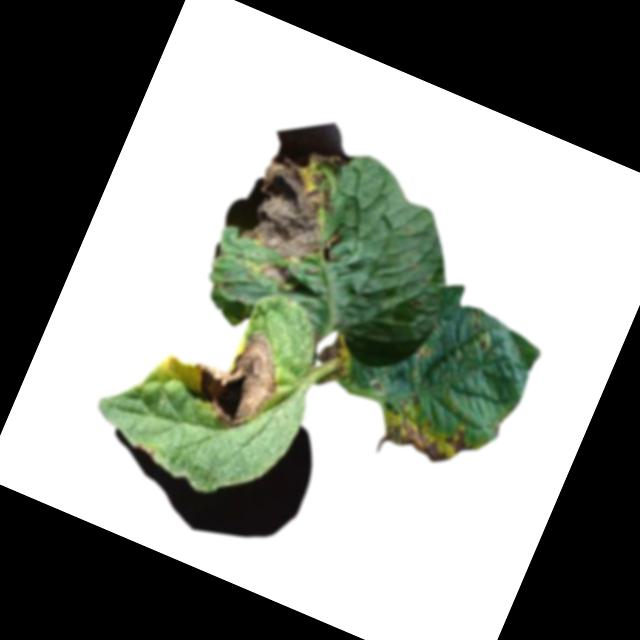Early_blight: (232, 126, 375, 274), (177, 312, 295, 439), (368, 392, 481, 473), (308, 327, 358, 387), (255, 256, 293, 285)
